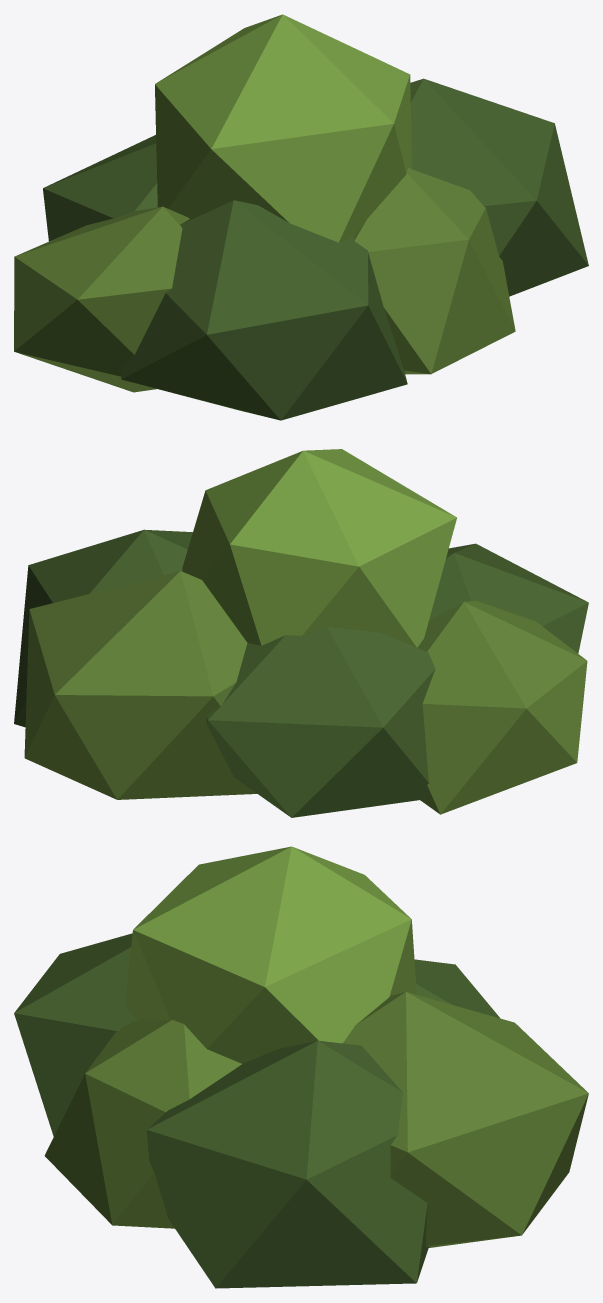
The model's file is desert_shrub.glb.
3 renders of one model, top to bottom at view 1: azimuth 30°, elevation 25°; view 2: azimuth 150°, elevation 25°; view 3: azimuth 270°, elevation 25°, orthographic. The views are drawn at different scales.
Parts seen in each view (by area): view 1: desert_shrub; view 2: desert_shrub; view 3: desert_shrub.
Part boxes in pixels (x1=…): desert_shrub: x1=14, y1=14, x2=588, y2=420; desert_shrub: x1=14, y1=449, x2=588, y2=817; desert_shrub: x1=14, y1=846, x2=588, y2=1288.
Bounding box in the file's own units: 2.04 × 1.17 × 1.74.
